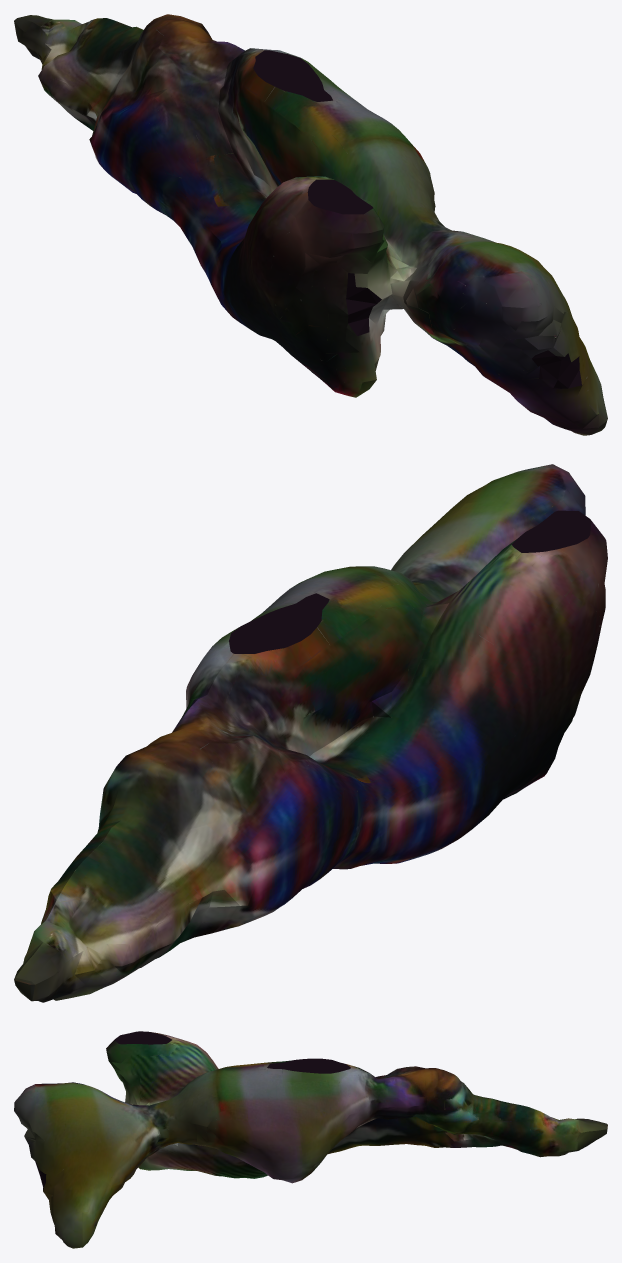
Rendered from findme-july24_scan_3_2.obj.
3 views of the same model, one above another, from view 1: azimuth 30°, elevation 25°; view 2: azimuth 150°, elevation 25°; view 3: azimuth 270°, elevation 25° (orthographic). The views are drawn at different scales.
Parts seen in each view (by area): view 1: july24_scan_3.2; view 2: july24_scan_3.2; view 3: july24_scan_3.2.
Part boxes in pixels (x1,y1,x2,y2): july24_scan_3.2: (14,14,607,435); july24_scan_3.2: (14,464,607,1002); july24_scan_3.2: (14,1031,607,1248).
Size of the model in its own units: 4.83 by 4.28 by 15.33.
